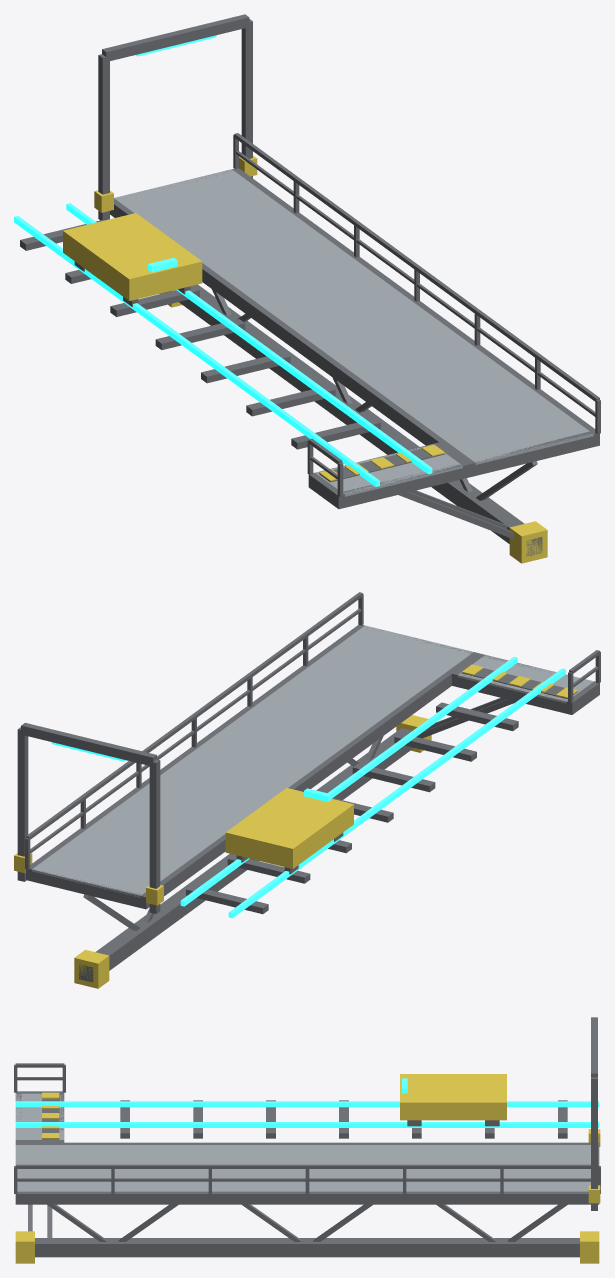
Rendered from diorama_mag_cart.glb.
The picture shows the model from 3 angles, top to bottom: view 1: azimuth 30°, elevation 25°; view 2: azimuth 150°, elevation 25°; view 3: azimuth 270°, elevation 25°; orthographic projection. The views are drawn at different scales.
Visible parts, largest first — view 1: Deck_a, Dyn_CartChassis, Spine, Frame_a_-1, Track_-1, Rail_a_1, Track_1, Frame_a_1, PortalLintel, Deck_rail, MidRail_a_1, Header_rail_1 (+10 smaller); view 2: Deck_a, Dyn_CartChassis, Spine, Frame_a_-1, Track_-1, Rail_a_1, Track_1, Frame_a_1, PortalLintel, Deck_rail, MidRail_a_1, PortalPost_-1 (+11 smaller); view 3: Deck_a, Spine, Frame_a_1, Dyn_CartChassis, Track_1, Track_-1, Rail_a_1, MidRail_a_1, Frame_a_-1, Deck_rail, PortalPost_1, Collar_0 (+9 smaller).
Part boxes in pixels (bbox=[...]): Deck_a: bbox=[114, 169, 593, 464]; Dyn_CartChassis: bbox=[63, 213, 202, 300]; Spine: bbox=[179, 284, 542, 556]; Frame_a_-1: bbox=[110, 198, 475, 477]; Track_-1: bbox=[14, 216, 379, 486]; Rail_a_1: bbox=[234, 133, 599, 401]; Track_1: bbox=[66, 203, 432, 474]; Frame_a_1: bbox=[232, 168, 599, 446]; PortalLintel: bbox=[102, 14, 249, 60]; Deck_rail: bbox=[316, 444, 462, 496]; MidRail_a_1: bbox=[236, 151, 595, 416]; Header_rail_1: bbox=[335, 462, 468, 507]; Deck_a: bbox=[32, 625, 472, 897]; Dyn_CartChassis: bbox=[225, 788, 353, 868]; Spine: bbox=[79, 728, 413, 982]; Frame_a_-1: bbox=[140, 652, 479, 909]; Track_-1: bbox=[228, 668, 565, 918]; Rail_a_1: bbox=[26, 592, 362, 840]; Track_1: bbox=[180, 657, 517, 906]; Frame_a_1: bbox=[26, 625, 364, 880]; PortalLintel: bbox=[21, 723, 156, 766]; Deck_rail: bbox=[457, 655, 593, 703]; MidRail_a_1: bbox=[30, 608, 361, 853]; PortalPost_-1: bbox=[149, 759, 160, 913]; Deck_a: bbox=[15, 1145, 590, 1191]; Spine: bbox=[35, 1238, 579, 1257]; Frame_a_1: bbox=[15, 1191, 590, 1204]; Dyn_CartChassis: bbox=[400, 1074, 506, 1120]; Track_1: bbox=[15, 1122, 599, 1127]; Track_-1: bbox=[15, 1101, 599, 1107]; Rail_a_1: bbox=[15, 1164, 599, 1168]; MidRail_a_1: bbox=[17, 1178, 590, 1181]; Frame_a_-1: bbox=[15, 1142, 590, 1144]; Deck_rail: bbox=[15, 1093, 64, 1139]; PortalPost_1: bbox=[591, 1077, 597, 1210]; Collar_0: bbox=[580, 1231, 599, 1263].
Bounding box in the file's own units: 5.24 × 4.84 × 12.07.
